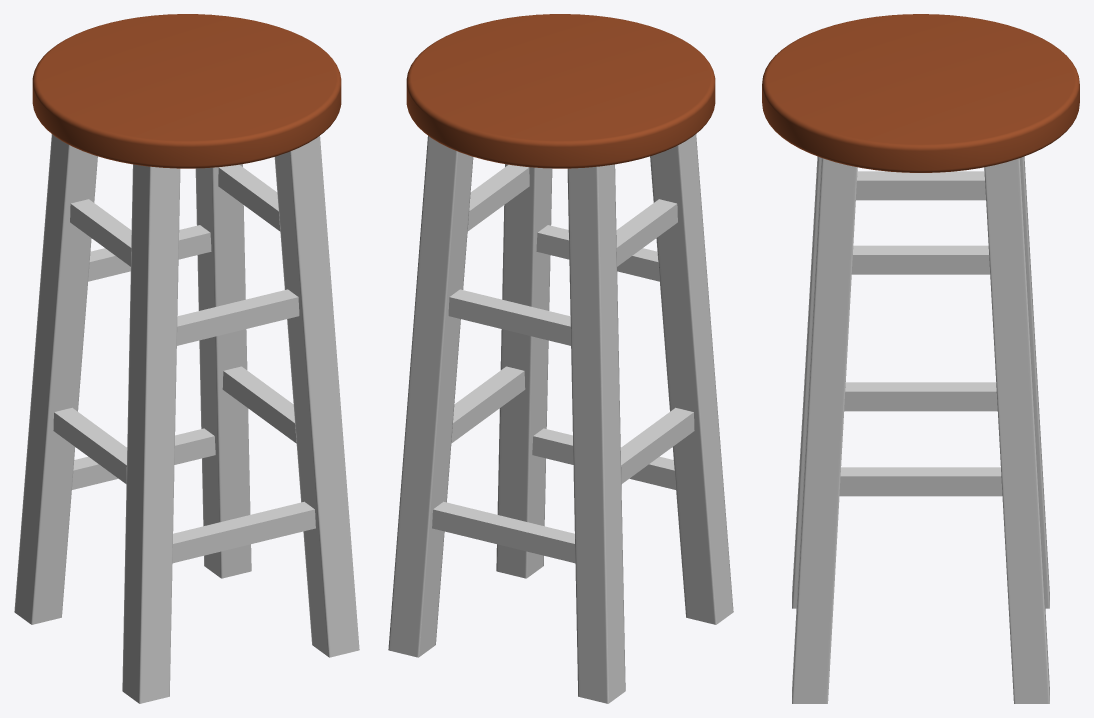
3 renders of one model, left to right at view 1: azimuth 30°, elevation 25°; view 2: azimuth 150°, elevation 25°; view 3: azimuth 270°, elevation 25°, orthographic. The views are drawn at different scales.
Parts seen in each view (by area): view 1: stool; view 2: stool; view 3: stool.
Part boxes in pixels (x1,y1,x2,y2): stool: (14,14,359,703); stool: (388,14,733,703); stool: (762,14,1079,703).
Bounding box in the file's own units: 0.3794 × 0.75 × 0.3794.
